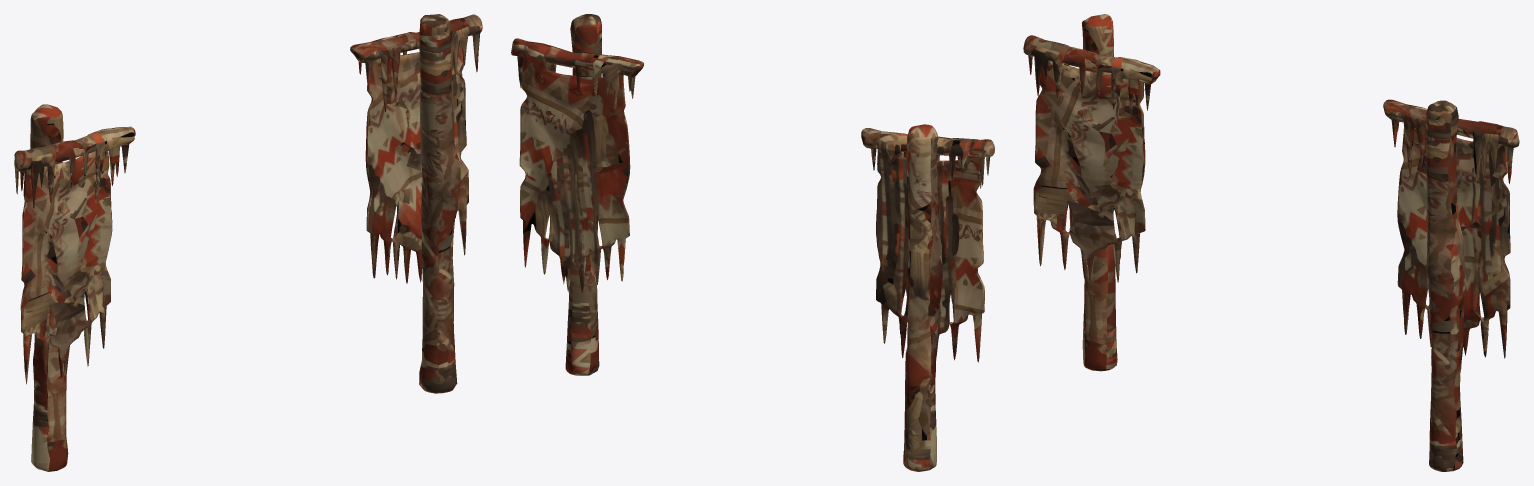
File: GrassFlag.fbx
3 renders of one model, left to right at view 1: azimuth 30°, elevation 25°; view 2: azimuth 150°, elevation 25°; view 3: azimuth 330°, elevation 25°, orthographic. The views are drawn at different scales.
Visible parts, largest first — view 1: mesh_node; view 2: mesh_node; view 3: mesh_node.
Boxes of the visible parts, <box> form: mesh_node: <box>14,14,482,471</box>; mesh_node: <box>511,14,994,471</box>; mesh_node: <box>1023,14,1519,471</box>.
Bounding box in the file's own units: 1.98 × 1.45 × 0.2762.
